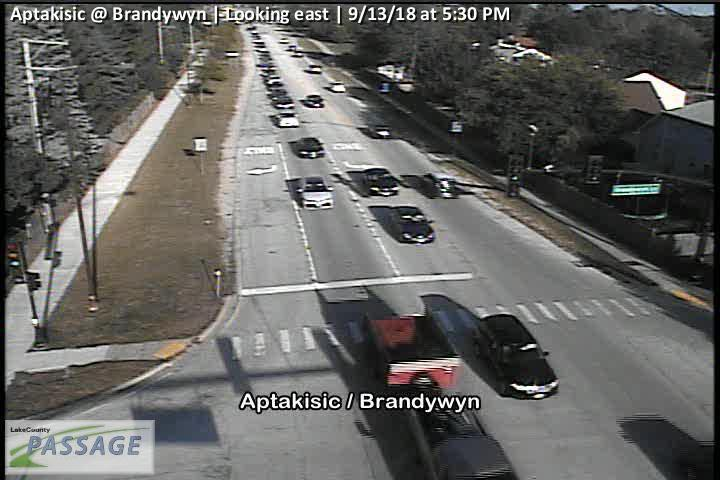SUV: (421, 171, 456, 199)
Sedan: (473, 313, 559, 400), (388, 205, 435, 245), (295, 175, 334, 211), (363, 167, 400, 197), (296, 136, 325, 159), (367, 118, 390, 138), (274, 110, 299, 128), (303, 95, 325, 110), (272, 96, 295, 108), (326, 81, 346, 92), (303, 64, 323, 74)
Truck: (405, 397, 522, 480), (362, 306, 463, 401)
